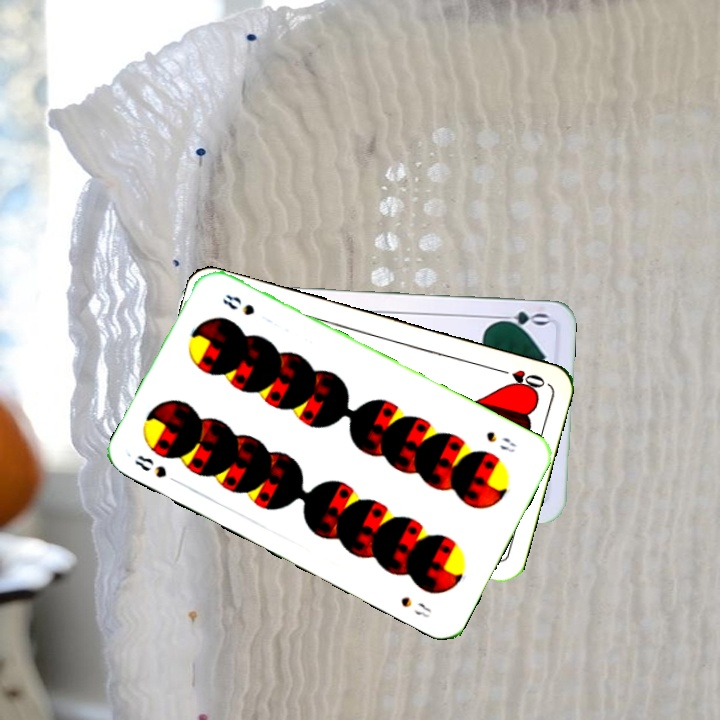GO: (491, 307, 550, 328)
HO: (490, 363, 548, 392)
S8: (130, 450, 183, 487), (482, 427, 519, 456)
